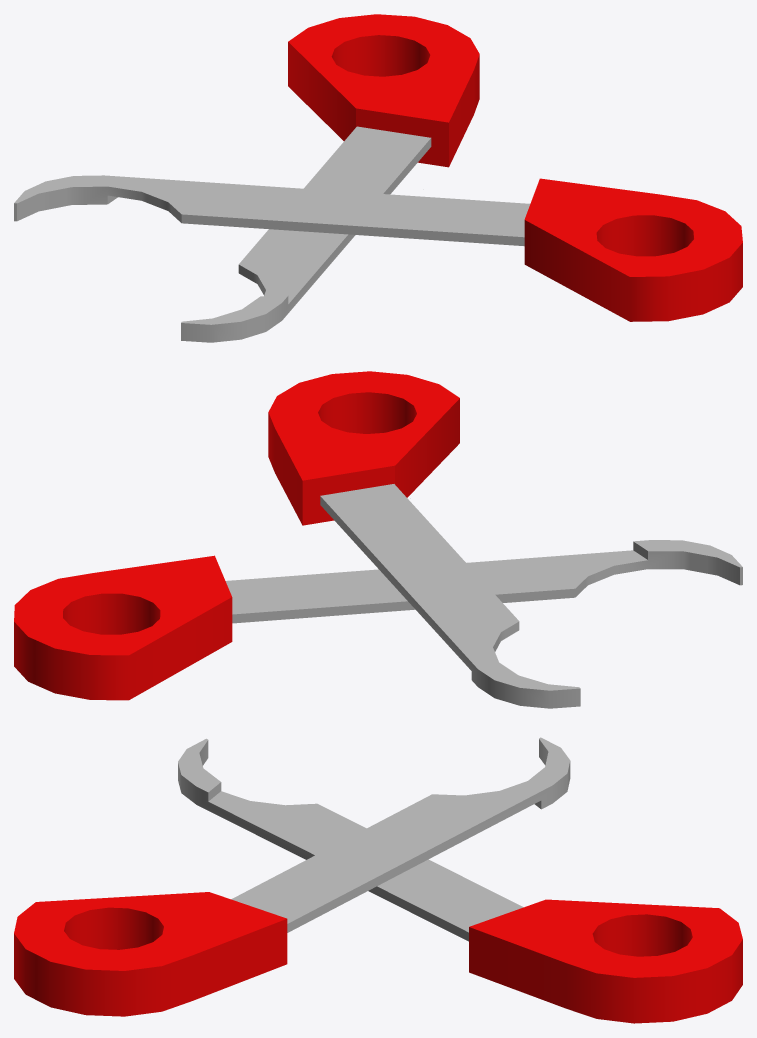
The picture shows the model from 3 angles, top to bottom: view 1: azimuth 30°, elevation 25°; view 2: azimuth 150°, elevation 25°; view 3: azimuth 270°, elevation 25°; orthographic projection.
Visible parts, largest first — view 1: #ID58_#ID58.001; view 2: #ID58_#ID58.001; view 3: #ID58_#ID58.001.
Part boxes in pixels (left/top/right/bottom): #ID58_#ID58.001: left=14, top=14, right=742, bottom=342; #ID58_#ID58.001: left=14, top=371, right=742, bottom=708; #ID58_#ID58.001: left=14, top=737, right=742, bottom=1023.
Size of the model in its own units: 1.39 by 0.1775 by 1.7.
